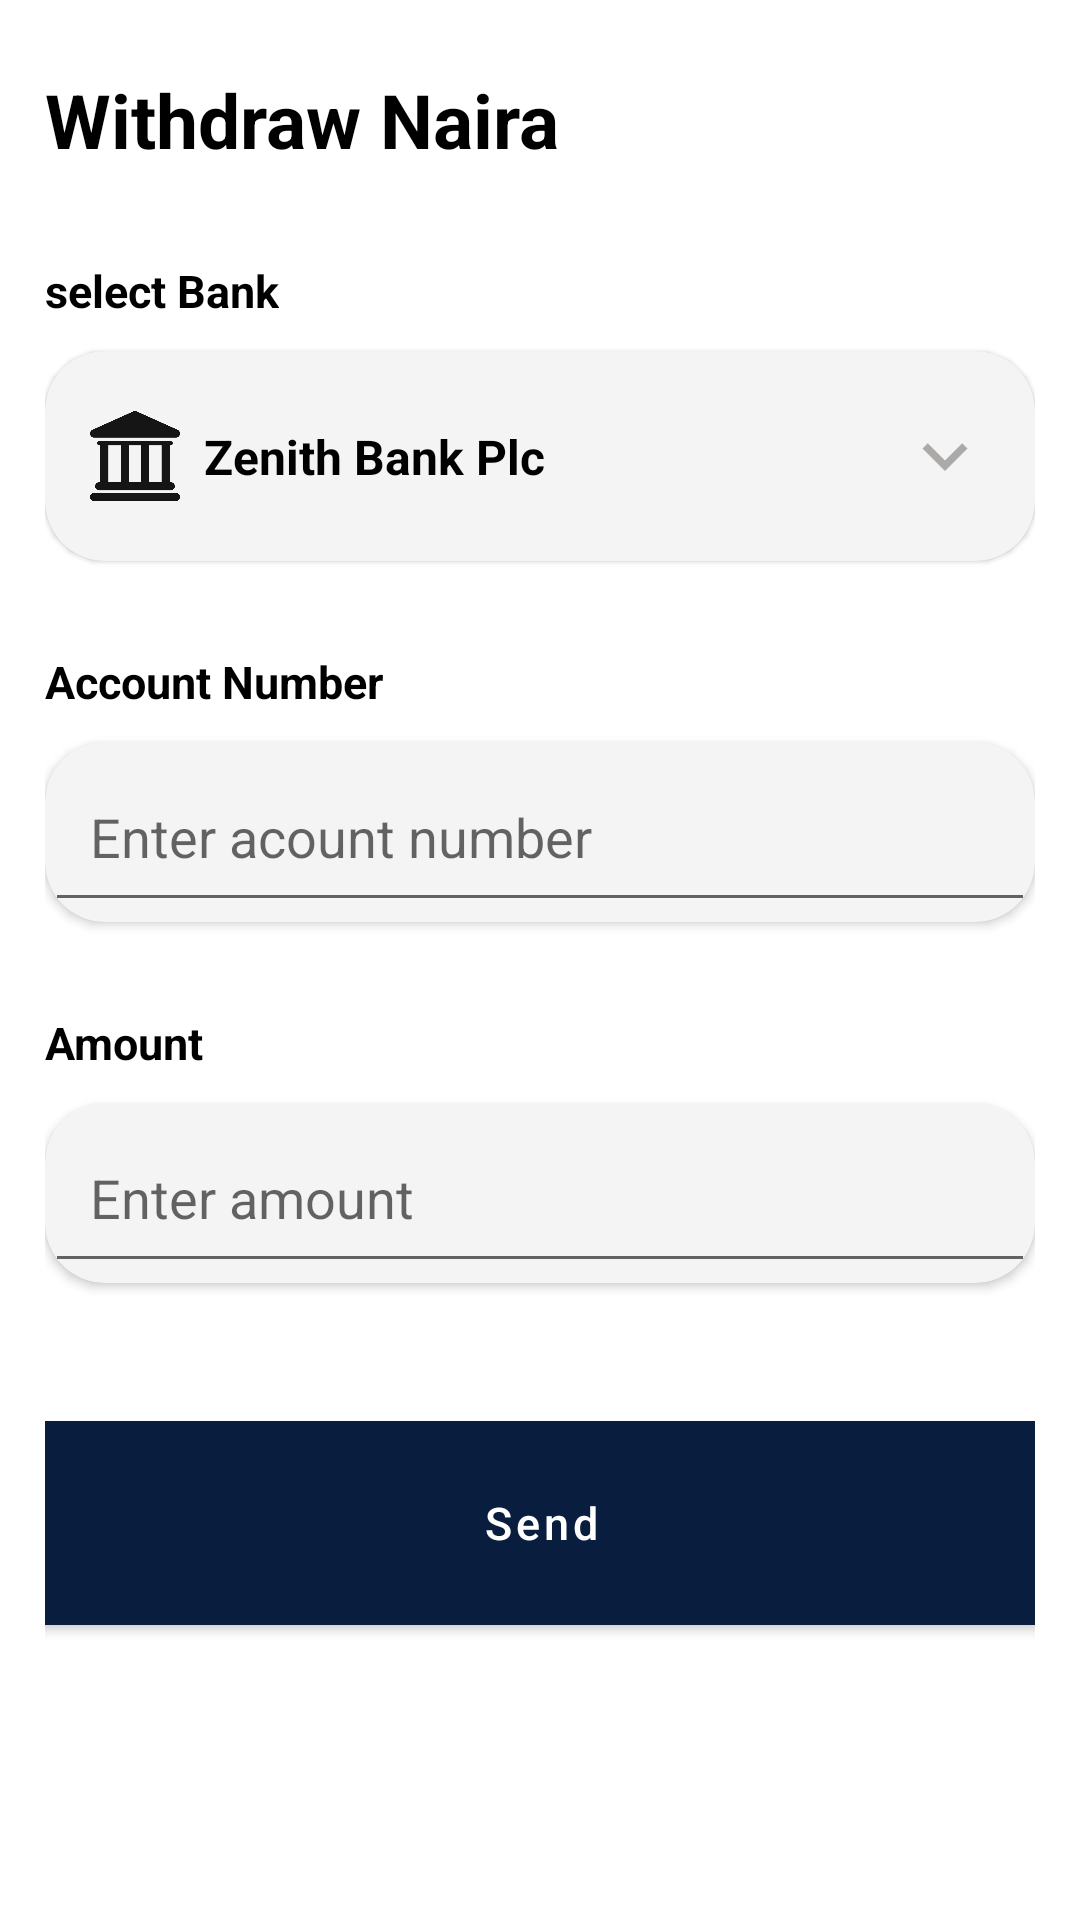

Icons on this 1080×1920 Android screen, each with the point to tap as point (x, y):
keyboard arrow down: point (945, 457)
